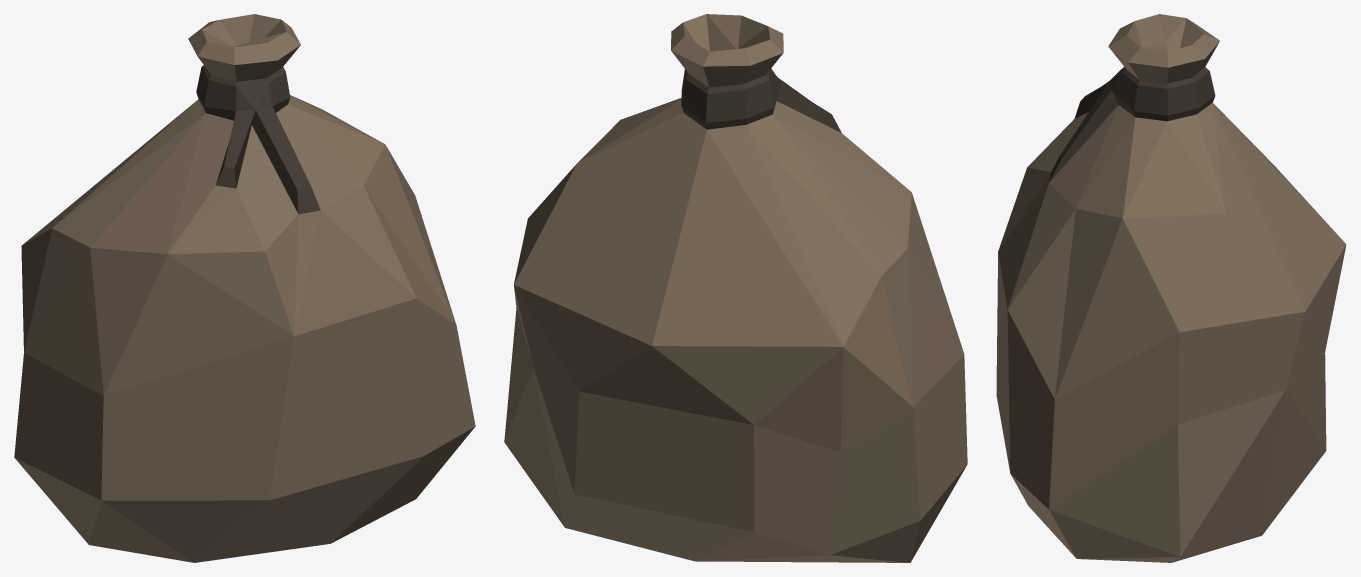
The model's file is SM_Item_Bag_02.glb.
3 renders of one model, left to right at view 1: azimuth 30°, elevation 25°; view 2: azimuth 150°, elevation 25°; view 3: azimuth 270°, elevation 25°, orthographic. The views are drawn at different scales.
Parts seen in each view (by area): view 1: SM_Item_Bag_02; view 2: SM_Item_Bag_02; view 3: SM_Item_Bag_02.
Boxes of the visible parts, <box> form: SM_Item_Bag_02: <box>14,14,475,562</box>; SM_Item_Bag_02: <box>504,14,967,562</box>; SM_Item_Bag_02: <box>996,14,1346,562</box>.
Bounding box in the file's own units: 0.00343 × 0.00376 × 0.00257.
